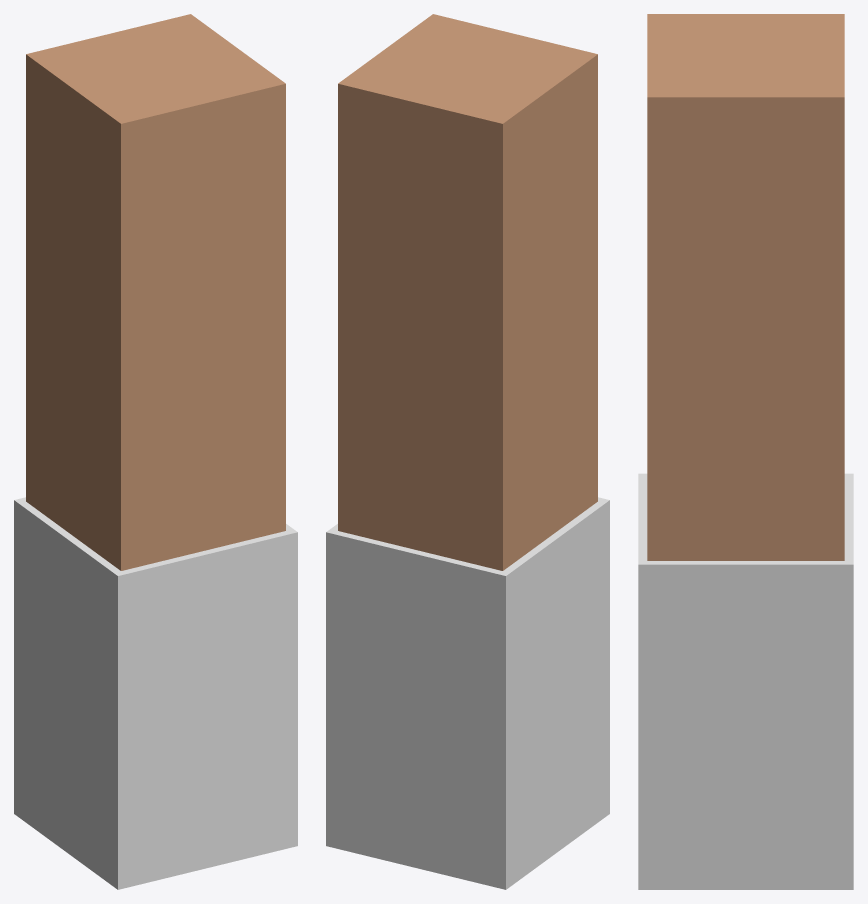
The model's file is Pierna.obj.
The picture shows the model from 3 angles, left to right: view 1: azimuth 30°, elevation 25°; view 2: azimuth 150°, elevation 25°; view 3: azimuth 270°, elevation 25°; orthographic projection. The views are drawn at different scales.
Visible parts, largest first — view 1: Pierna; view 2: Pierna; view 3: Pierna.
Part boxes in pixels (box(x1,y1,x2,y2)): Pierna: box(14, 14, 297, 889); Pierna: box(326, 14, 609, 889); Pierna: box(638, 14, 853, 889).
Size of the model in its own units: 0.12 by 0.485 by 0.12.
Materials: 1 (1 with a texture image).
